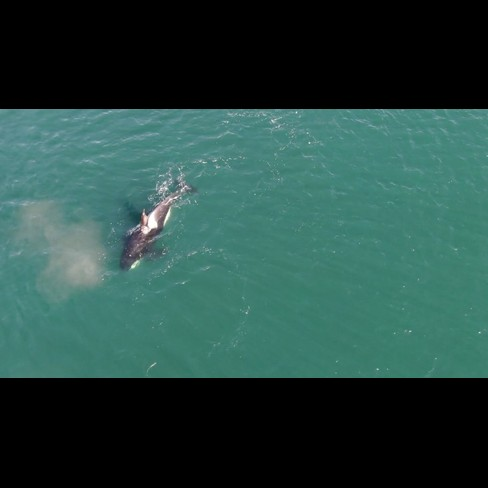orca: (115, 172, 198, 279)
